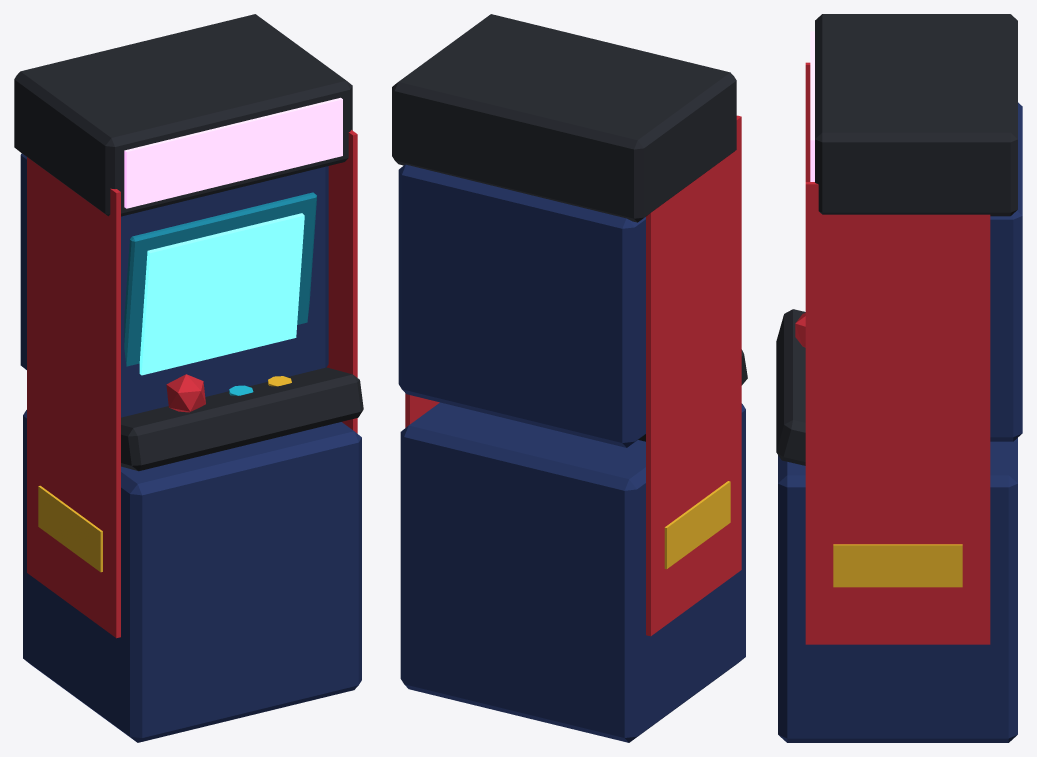
Rendered from ArcadeCabinet.fbx.
3 views of the same model, side by side, from view 1: azimuth 30°, elevation 25°; view 2: azimuth 150°, elevation 25°; view 3: azimuth 270°, elevation 25° (orthographic). The views are drawn at different scales.
Parts seen in each view (by area): view 1: ArcadeCabinet, Neon_Cyan, Neon_Pink; view 2: ArcadeCabinet; view 3: ArcadeCabinet, Neon_Pink.
Boxes of the visible parts, box(x1,y1,x2,y2) form: ArcadeCabinet: box(14, 14, 363, 742); Neon_Cyan: box(139, 213, 304, 375); Neon_Pink: box(124, 97, 342, 208); ArcadeCabinet: box(392, 14, 747, 742); ArcadeCabinet: box(776, 14, 1022, 742); Neon_Pink: box(810, 31, 814, 181).
Size of the model in its own units: 3.2 by 7.35 by 2.67.
3 materials, 1 textured.
